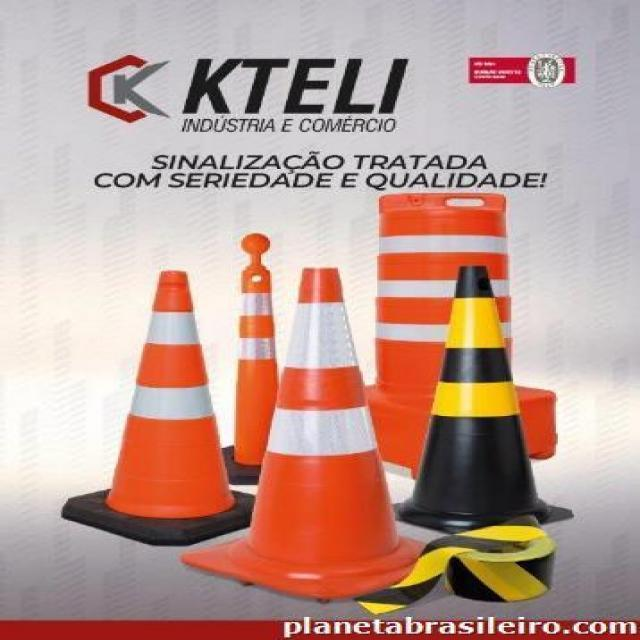traffic cone: (179, 264, 427, 602), (61, 272, 256, 547), (393, 265, 558, 533), (106, 270, 237, 521), (233, 233, 279, 470)
